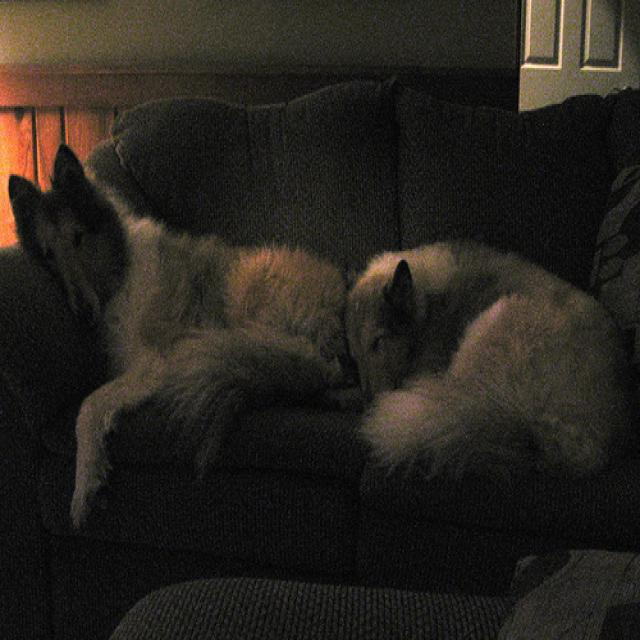Dog: (0, 137, 634, 562)
